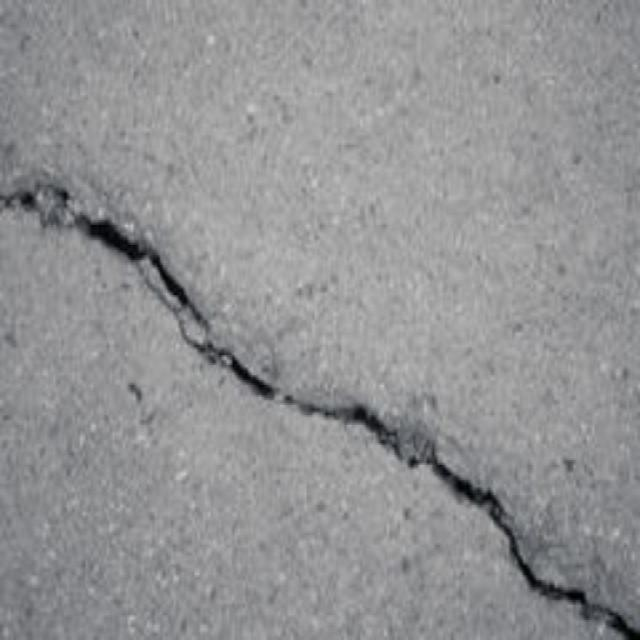crack: (301, 389, 639, 636), (0, 168, 300, 412)
